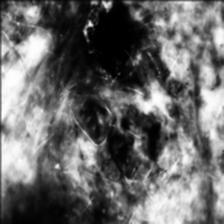Potentially Malignant Skin Tumors: (84, 1, 142, 85)
